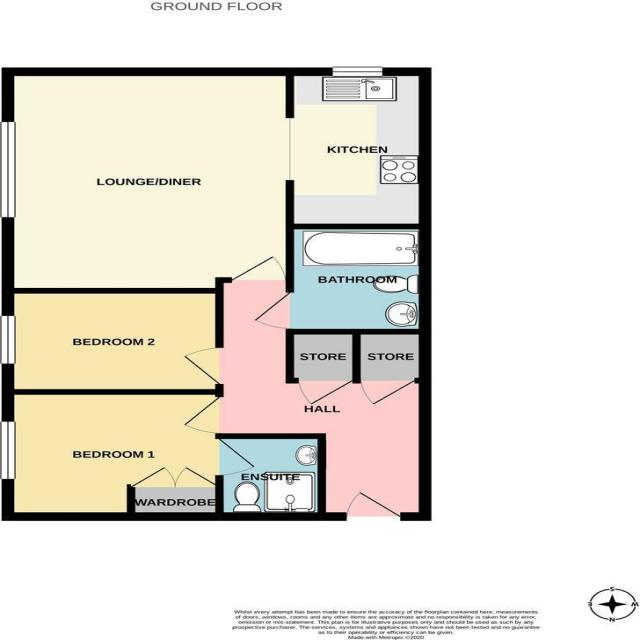DOOR: (342, 489, 406, 521), (179, 344, 225, 386), (215, 436, 259, 478), (178, 395, 223, 435), (227, 254, 288, 283), (251, 290, 294, 330)
ROOM: (1, 67, 434, 294), (1, 388, 259, 521), (0, 288, 224, 395)
WINDOW: (0, 120, 17, 219), (0, 419, 17, 481), (0, 312, 17, 365), (328, 66, 387, 78)
